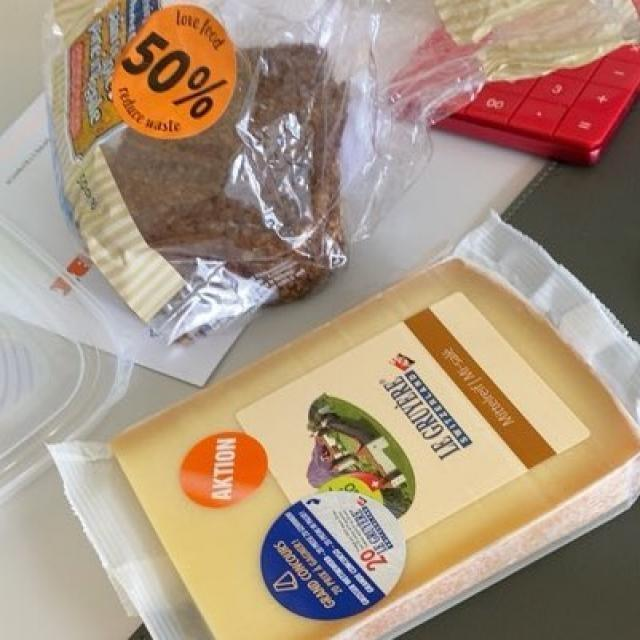cheese: (108, 254, 631, 632)
